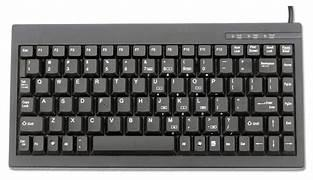keyboard: (8, 6, 305, 170)
